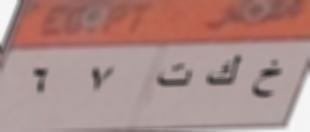6: (26, 60, 52, 97)
7: (83, 56, 122, 94)
kaaf: (204, 53, 245, 92)
khaa: (247, 53, 290, 104)
taa: (156, 60, 196, 91)
